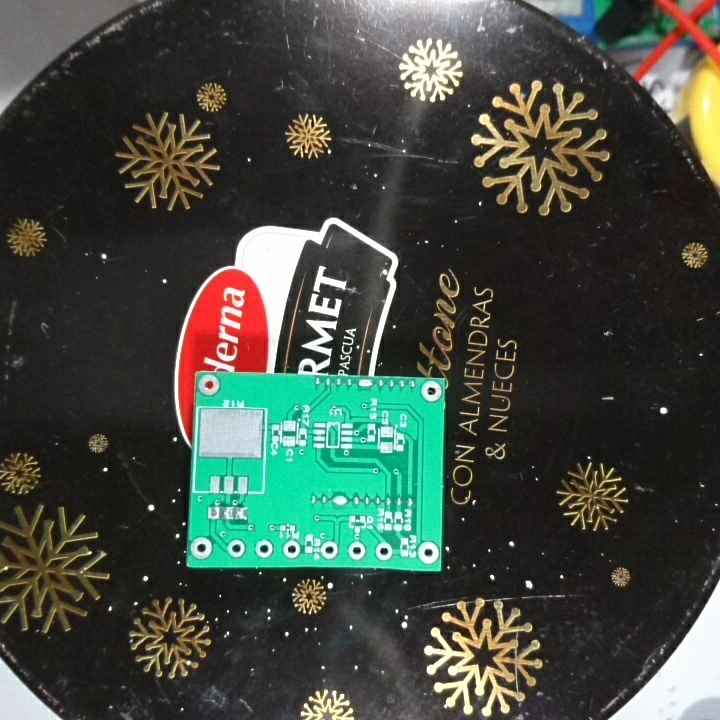F: (196, 371, 223, 400), (190, 533, 215, 563), (224, 536, 250, 561), (419, 379, 442, 406), (347, 539, 370, 564), (253, 537, 276, 562), (414, 539, 434, 565), (372, 540, 394, 563), (320, 538, 340, 562), (281, 537, 300, 559), (205, 503, 222, 525)
P: (355, 375, 375, 394), (331, 493, 351, 511)
